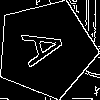A: (21, 24, 76, 68)
